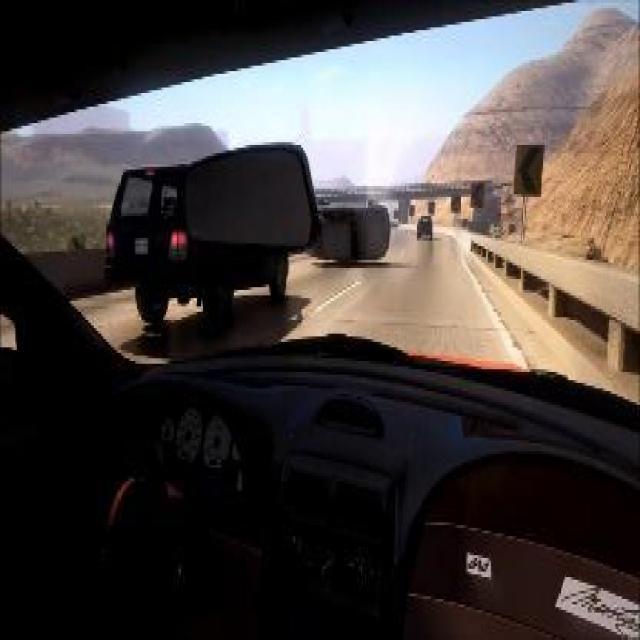accident: (305, 178, 392, 273)
